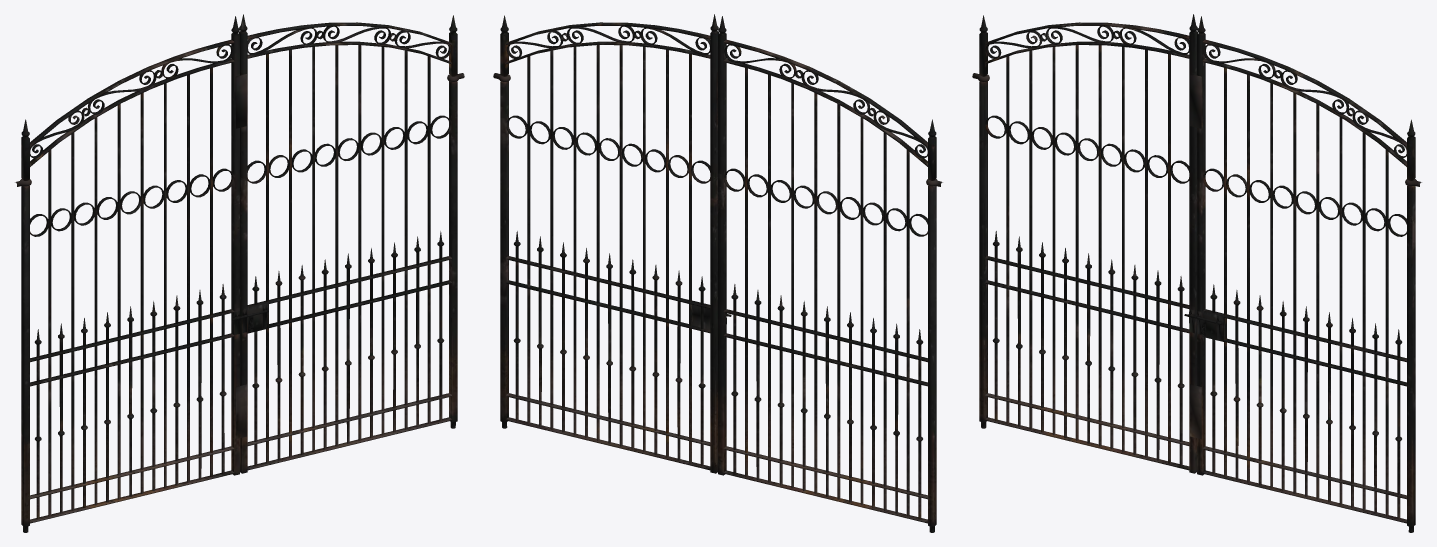
Rendered from large_iron_gate.glb.
The picture shows the model from 3 angles, left to right: view 1: azimuth 30°, elevation 25°; view 2: azimuth 150°, elevation 25°; view 3: azimuth 330°, elevation 25°; orthographic projection.
Parts seen in each view (by area): view 1: large_iron_gate_right_door; view 2: large_iron_gate_right_door; view 3: large_iron_gate_right_door.
Part boxes in pixels (x1,y1,x2,y2): large_iron_gate_right_door: (15,14,464,532); large_iron_gate_right_door: (493,14,942,532); large_iron_gate_right_door: (972,14,1421,532).
Bounding box in the file's own units: 2.95 × 2.93 × 0.0972.
Materials: 1 (1 with a texture image).
